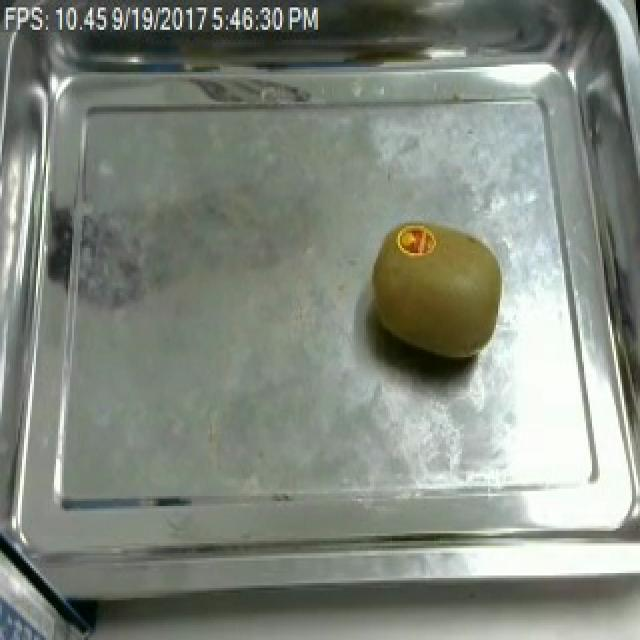Fruit: (362, 213, 512, 370)
